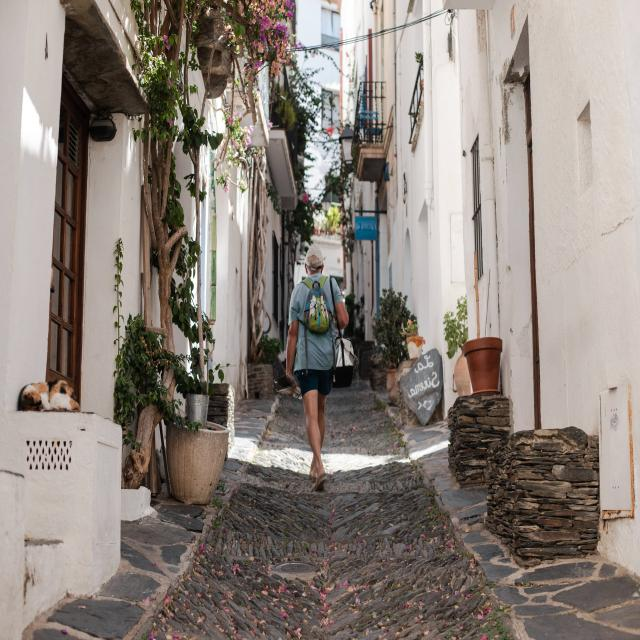adult: (281, 240, 352, 498)
